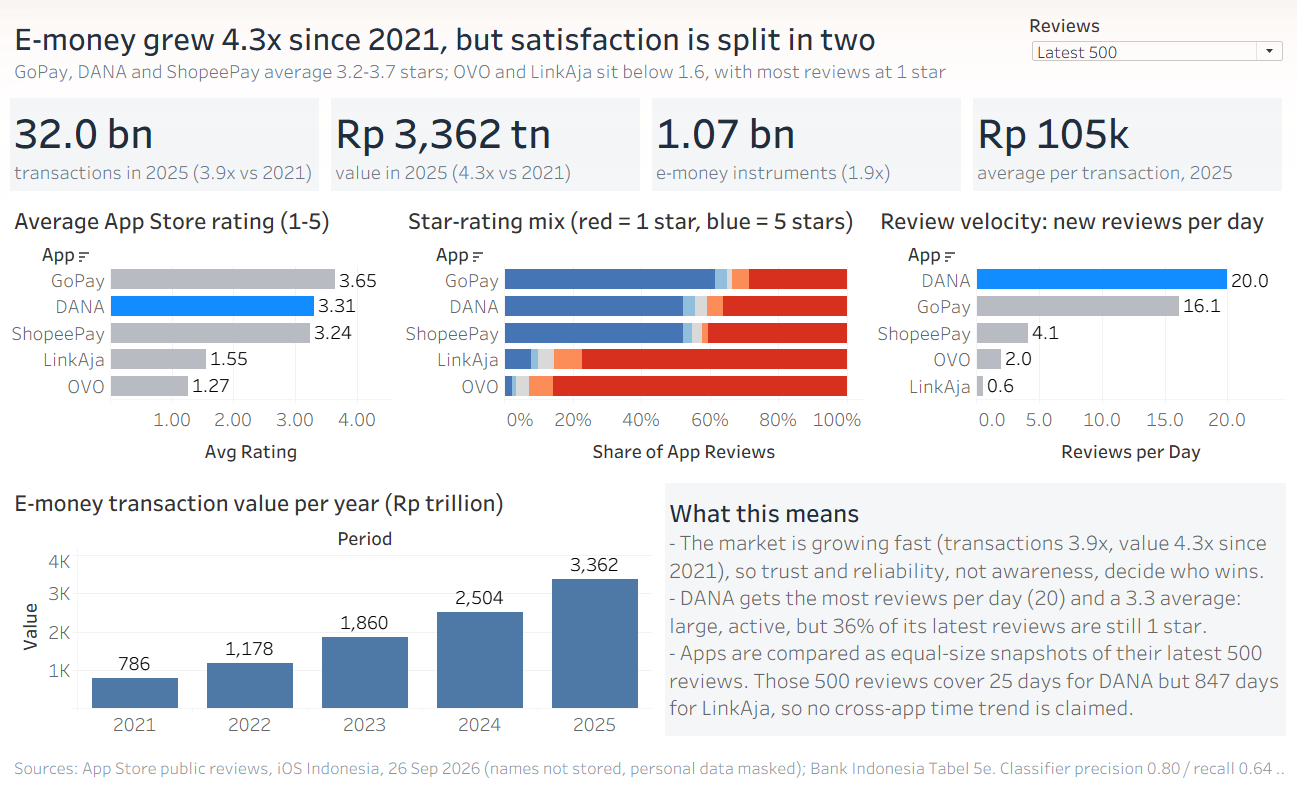

Layout of this report page (visuals, bound fields, positions):
{"tool":"tableau","page":{"name":"1 Market & Scorecard","canvas":[1300,800],"ordinal":0},"visuals":[{"type":"text","box":[8,8,1014,84]},{"type":"parameter","param":"[Parameters].[Parameter 2]","box":[1027,8,265,84]},{"type":"text","box":[8,93.6,317.2,101.5]},{"type":"text","box":[329.1,93.6,317.2,101.5]},{"type":"text","box":[650.2,93.6,317.2,101.5]},{"type":"text","box":[971.3,93.6,317.2,101.5]},{"type":"worksheet","title":"Average rating per app","mark":"Bar","rows":["App"],"cols":["Calc_AvgRating"],"box":[8,197.5,390,277.5]},{"type":"worksheet","title":"Star-rating mix per app","mark":"Bar","rows":["App"],"cols":["Calc_MixShare"],"box":[401.7,197.5,468,277.5]},{"type":"worksheet","title":"Reviews per day","mark":"Bar","rows":["App"],"cols":["Calc_PerDay"],"box":[873.6,197.5,418.4,277.5]},{"type":"worksheet","title":"E-money transaction value","mark":"Bar","rows":["Value"],"cols":["Period"],"box":[8,478.9,650,261.6]},{"type":"text","box":[663,478.9,629,261.6]},{"type":"text","box":[8,744.4,1284,47.6]}]}

Visuals, with their boxes in screenshot pixels (x1, y1, x2, y2), scaled from the page's 1300x800 canvas onto the 1297x796 screenshot:
text: l=8, t=8, r=1020, b=92
parameter: l=1025, t=8, r=1289, b=92
text: l=8, t=93, r=324, b=194
text: l=328, t=93, r=645, b=194
text: l=649, t=93, r=965, b=194
text: l=969, t=93, r=1286, b=194
"Average rating per app" worksheet (Bar marks): l=8, t=197, r=397, b=473
"Star-rating mix per app" worksheet (Bar marks): l=401, t=197, r=868, b=473
"Reviews per day" worksheet (Bar marks): l=872, t=197, r=1289, b=473
"E-money transaction value" worksheet (Bar marks): l=8, t=477, r=656, b=737
text: l=661, t=477, r=1289, b=737
text: l=8, t=741, r=1289, b=788
